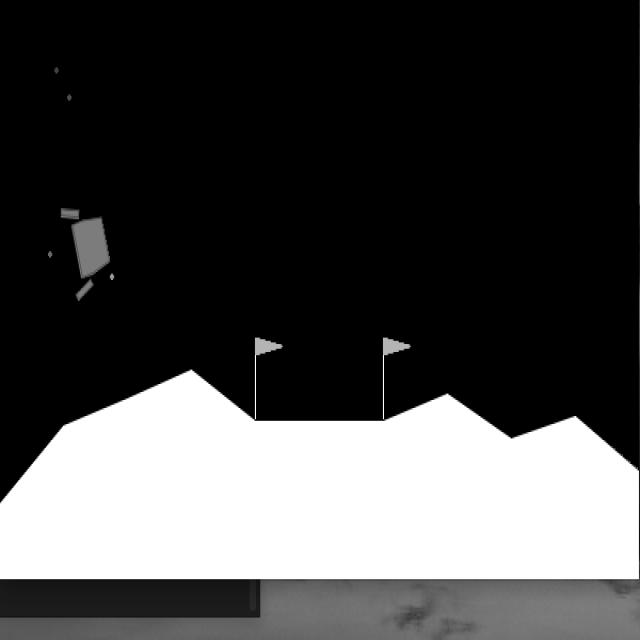lander: (60, 202, 117, 300)
landing_point: (254, 336, 387, 421)
